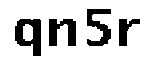5: (82, 7, 114, 48)
n: (47, 15, 80, 50)
q: (12, 16, 44, 60)
r: (115, 17, 141, 48)
